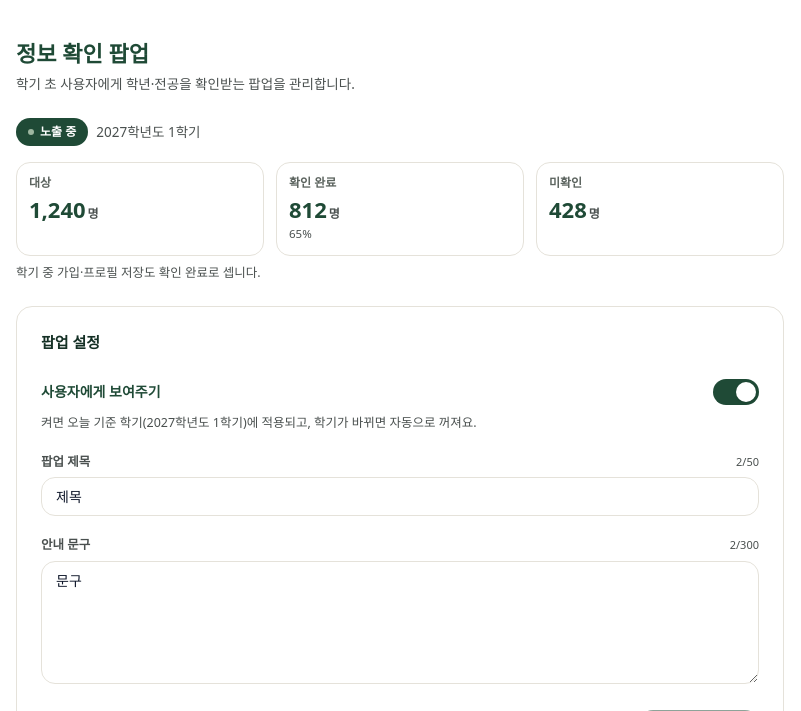
it: AdminProfileCheckPage — 설정 저장 › 저장하면 앞뒤 공백을 뺀 값을 보내고, 성공하면 토스트를 띄운 뒤 서버 값으로 돌아간다
Replace the text in the field labelled "팝업 제목" with "  새 제목  " at (400, 497), box [41,477,759,516]
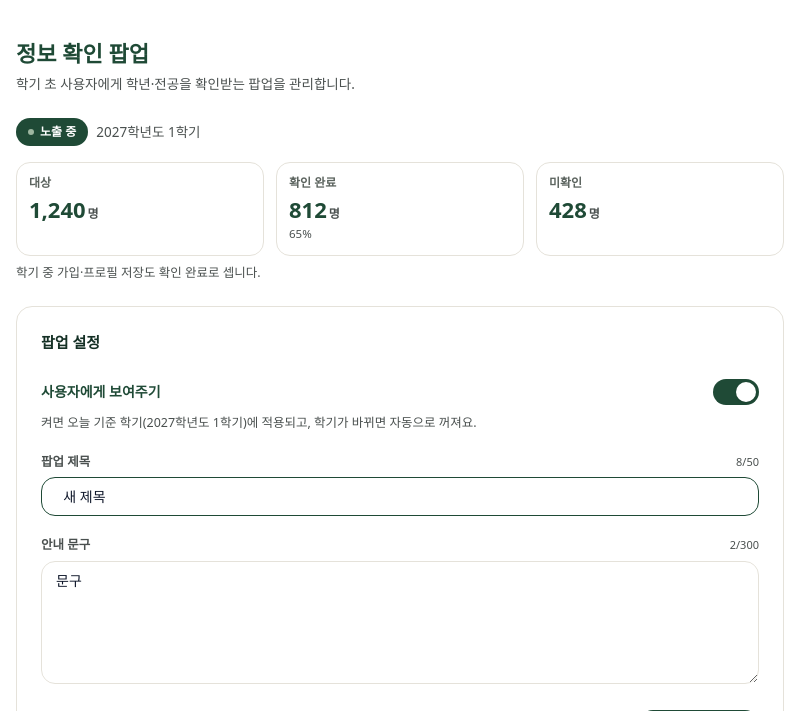
Click the switch named "사용자에게 보여주기" at (736, 392), box [713,379,759,405]
(page scrolled)
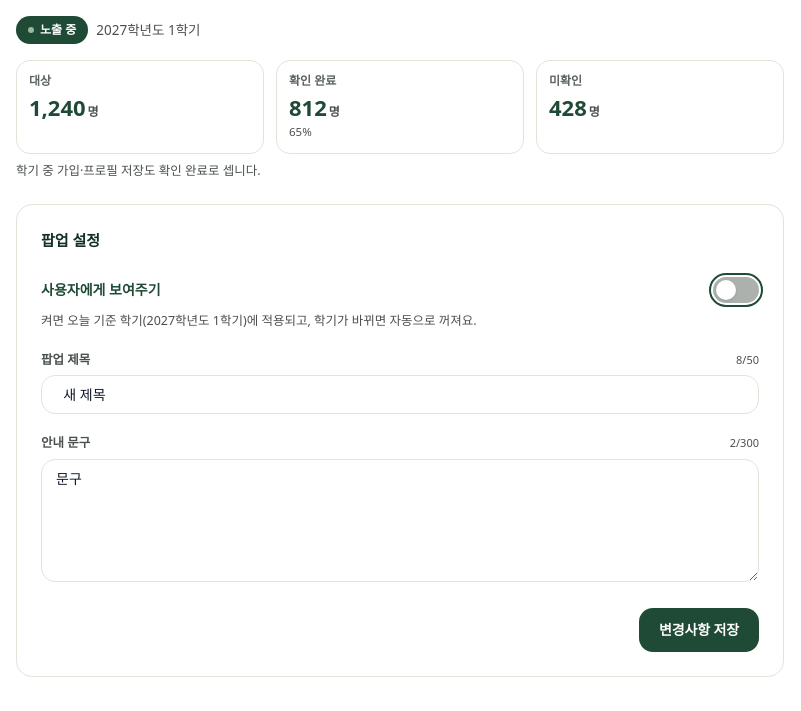
Click the button "변경사항 저장" at (699, 630), box [639,608,759,652]
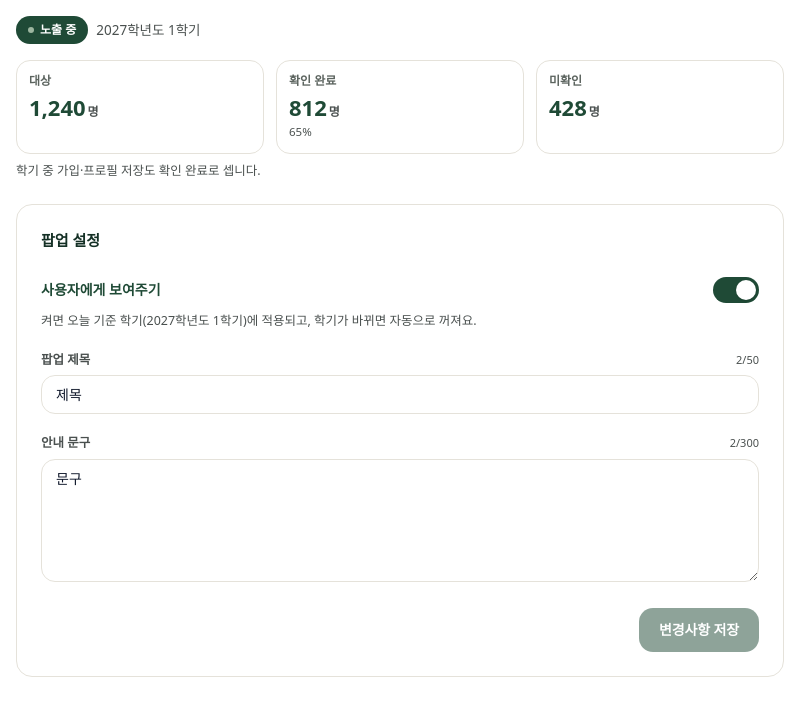
Result: the field labelled "팝업 제목" holds "제목" at [41,375,759,414]
Result: the button "변경사항 저장" is disabled at [639,608,759,652]
